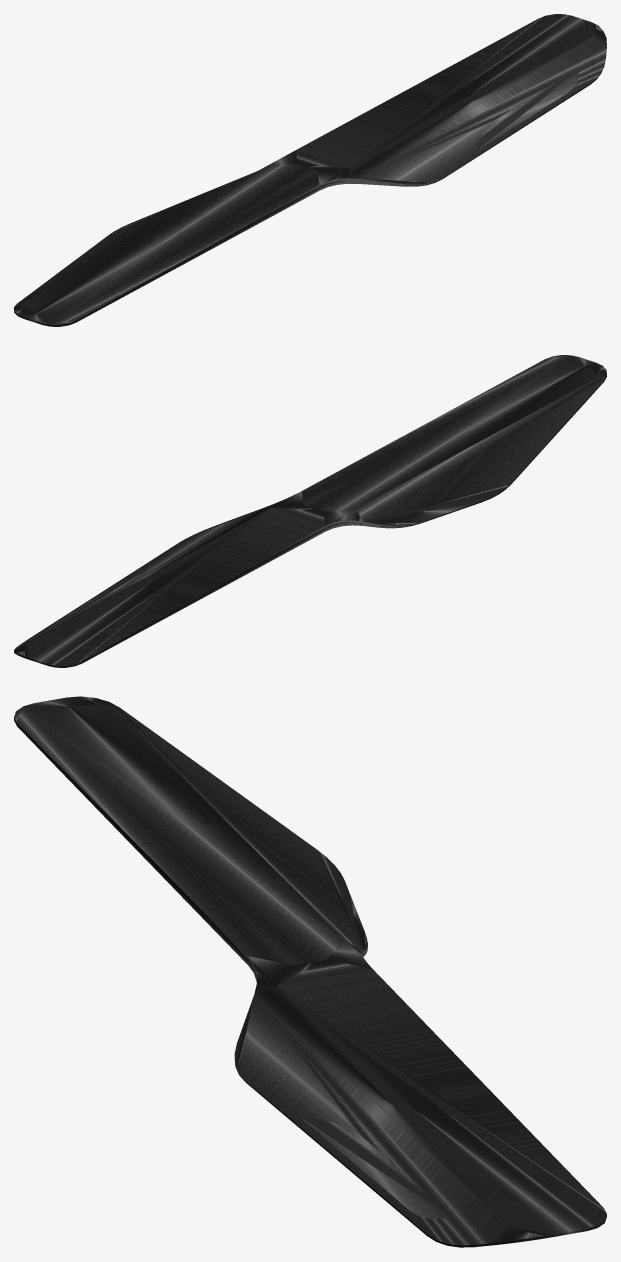
Rendered from helix.obj.
The picture shows the model from 3 angles, top to bottom: view 1: azimuth 30°, elevation 25°; view 2: azimuth 210°, elevation 25°; view 3: azimuth 270°, elevation 25°; orthographic projection. The views are drawn at different scales.
Visible parts, largest first — view 1: polySurface46 polySurface8; view 2: polySurface46 polySurface8; view 3: polySurface46 polySurface8.
Part boxes in pixels (x1,y1,x2,y2): polySurface46 polySurface8: (14,14,606,326); polySurface46 polySurface8: (14,355,606,667); polySurface46 polySurface8: (14,696,606,1247).
Size of the model in its own units: 23.28 by 0.7315 by 10.81.
1 material, 1 textured.
